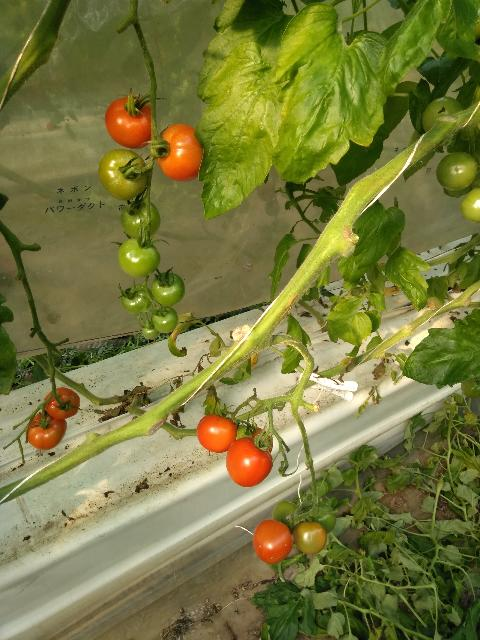l_fully_ripened: (226, 436, 274, 488), (106, 95, 151, 150), (253, 518, 293, 565), (196, 414, 237, 453), (44, 387, 80, 421)
l_green: (98, 149, 149, 202), (117, 238, 160, 278), (120, 198, 161, 239), (436, 151, 478, 191), (422, 96, 463, 133), (151, 272, 185, 307), (302, 501, 336, 534), (272, 500, 303, 535), (120, 284, 154, 315), (150, 306, 179, 334), (460, 189, 479, 224), (142, 320, 162, 339), (461, 378, 479, 398)
l_half_ripened: (154, 123, 207, 181), (27, 411, 67, 451), (293, 521, 327, 555)
